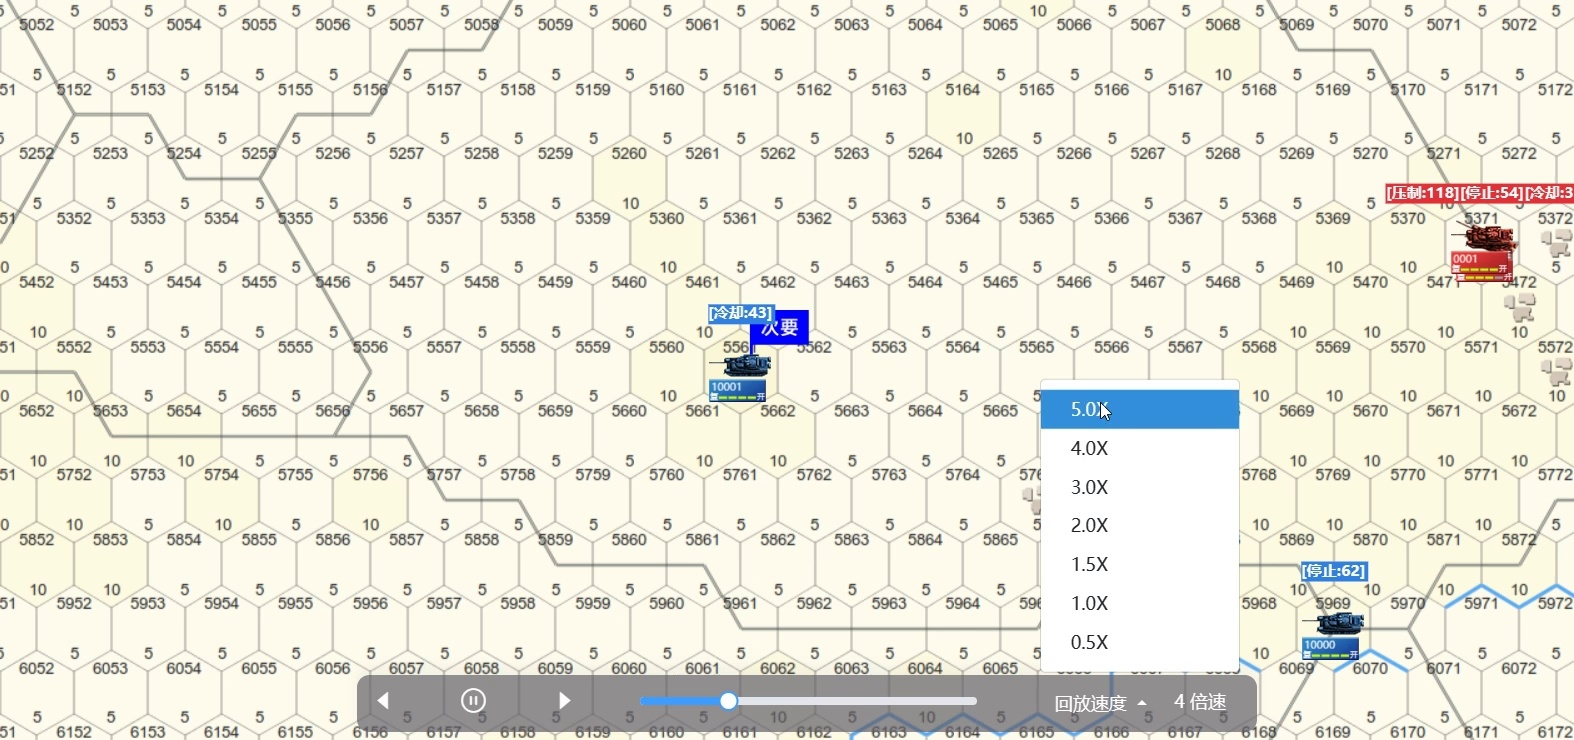blue_tank: (1313, 607, 1374, 664)
red_tank: (1457, 230, 1520, 285)
